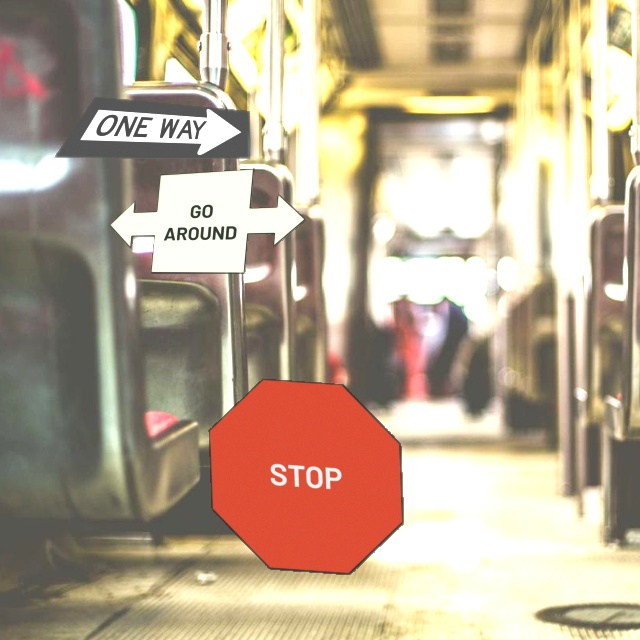GO_AROUND: (109, 168, 306, 274)
ONE_WAY_ right: (53, 96, 250, 159)
STOP: (208, 378, 404, 575)
